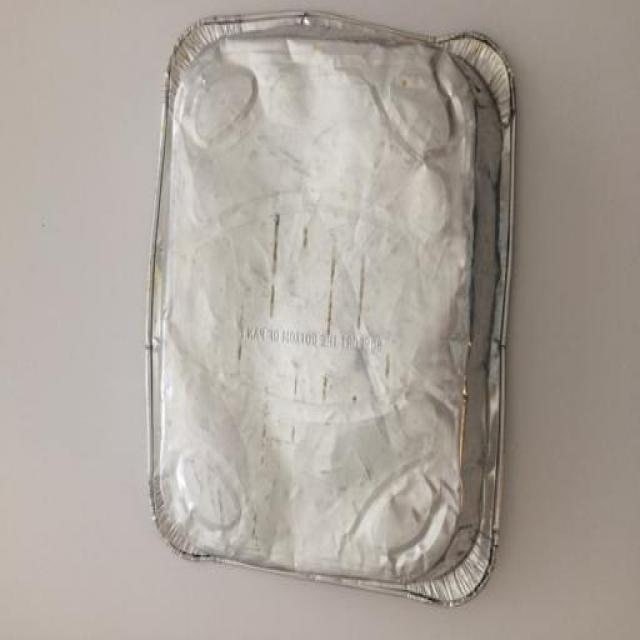metel: (140, 6, 575, 640)
